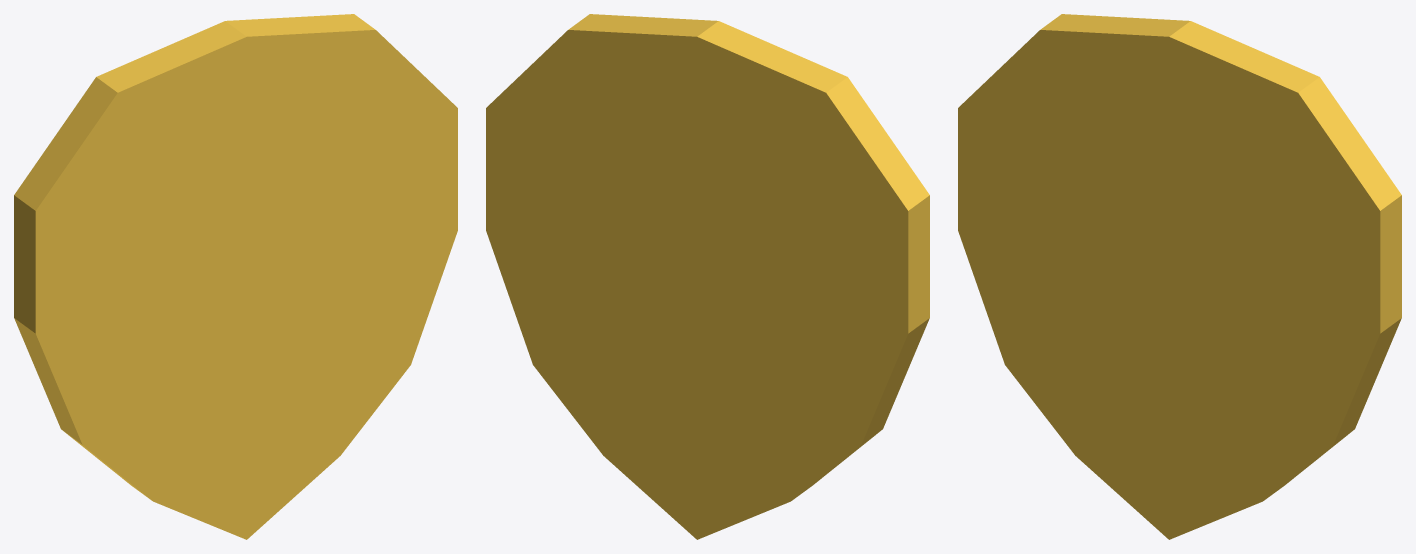
The model's file is badge_french_dish.glb.
The picture shows the model from 3 angles, left to right: view 1: azimuth 30°, elevation 25°; view 2: azimuth 150°, elevation 25°; view 3: azimuth 330°, elevation 25°; orthographic projection.
Parts seen in each view (by area): view 1: badge; view 2: badge; view 3: badge.
Part boxes in pixels (x1,y1,x2,y2): badge: [14, 14, 457, 539]; badge: [486, 14, 929, 539]; badge: [958, 14, 1401, 539].
Size of the model in its own units: 1.8 by 2.05 by 0.16.
